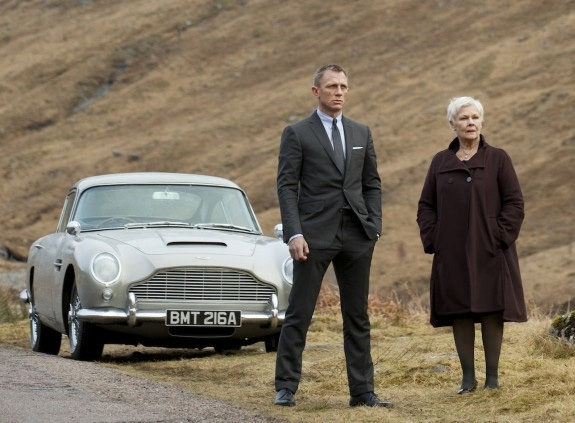license plate: (165, 308, 241, 329)
